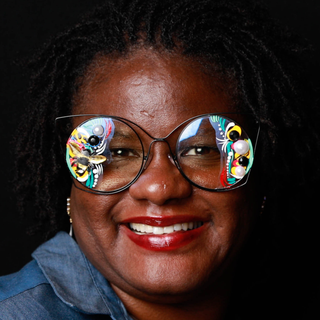eye: (103, 144, 141, 163), (178, 144, 216, 161)
